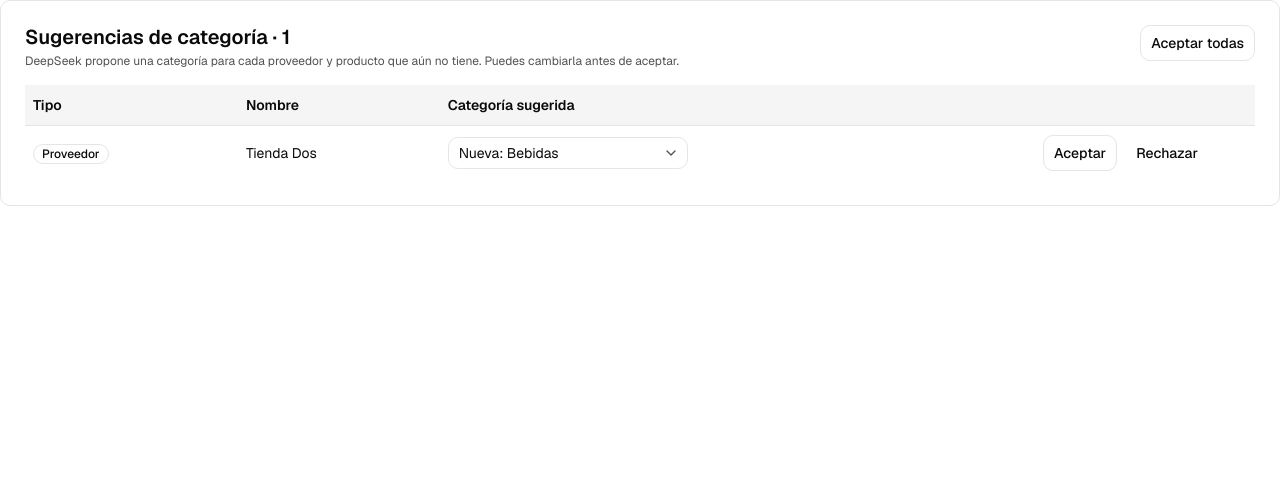
Test case: the table and its rows (D-23, E5 populated) › preselects «Nueva: {nombre}» for a new one, and lists it first, then the user's categories, without «Sin categoría»
Step 1. Click the dropdown named "Categoría sugerida para Tienda Dos" → (568, 153), box x1=448 y1=137 x2=688 y2=169
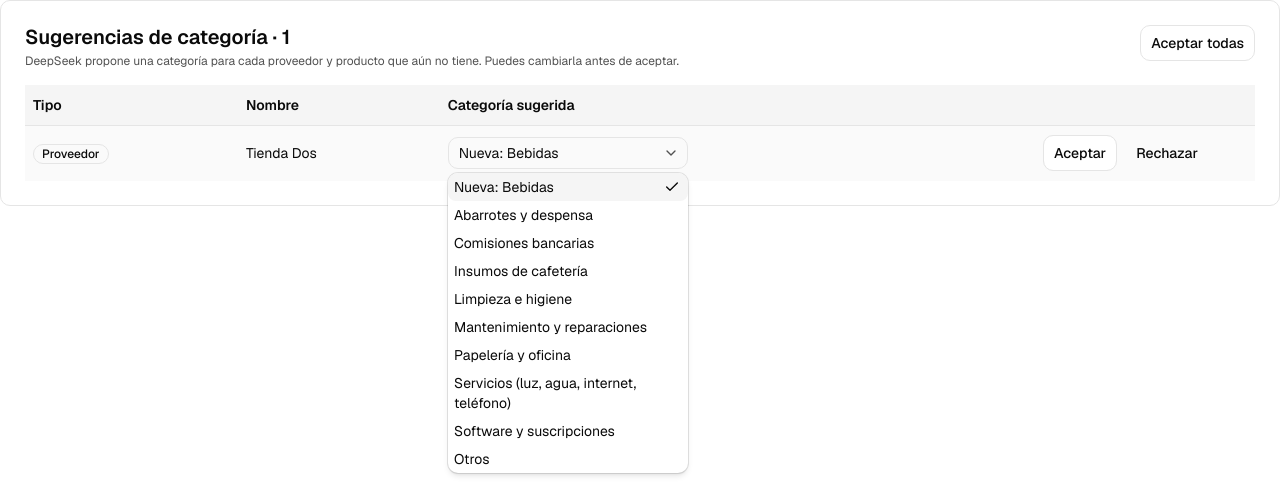
Expected: the text "Nueva: Bebidas" below "Nombre" is shown, x1=459 y1=144 x2=559 y2=162
Result: the text "Otros" is shown at x1=454 y1=449 x2=490 y2=469
